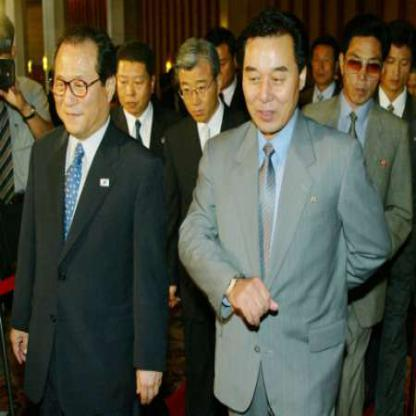face: (244, 22, 301, 134), (53, 33, 110, 137), (345, 30, 383, 105), (181, 54, 219, 123), (118, 52, 154, 115), (382, 30, 415, 93), (204, 34, 235, 93), (313, 44, 337, 84)
